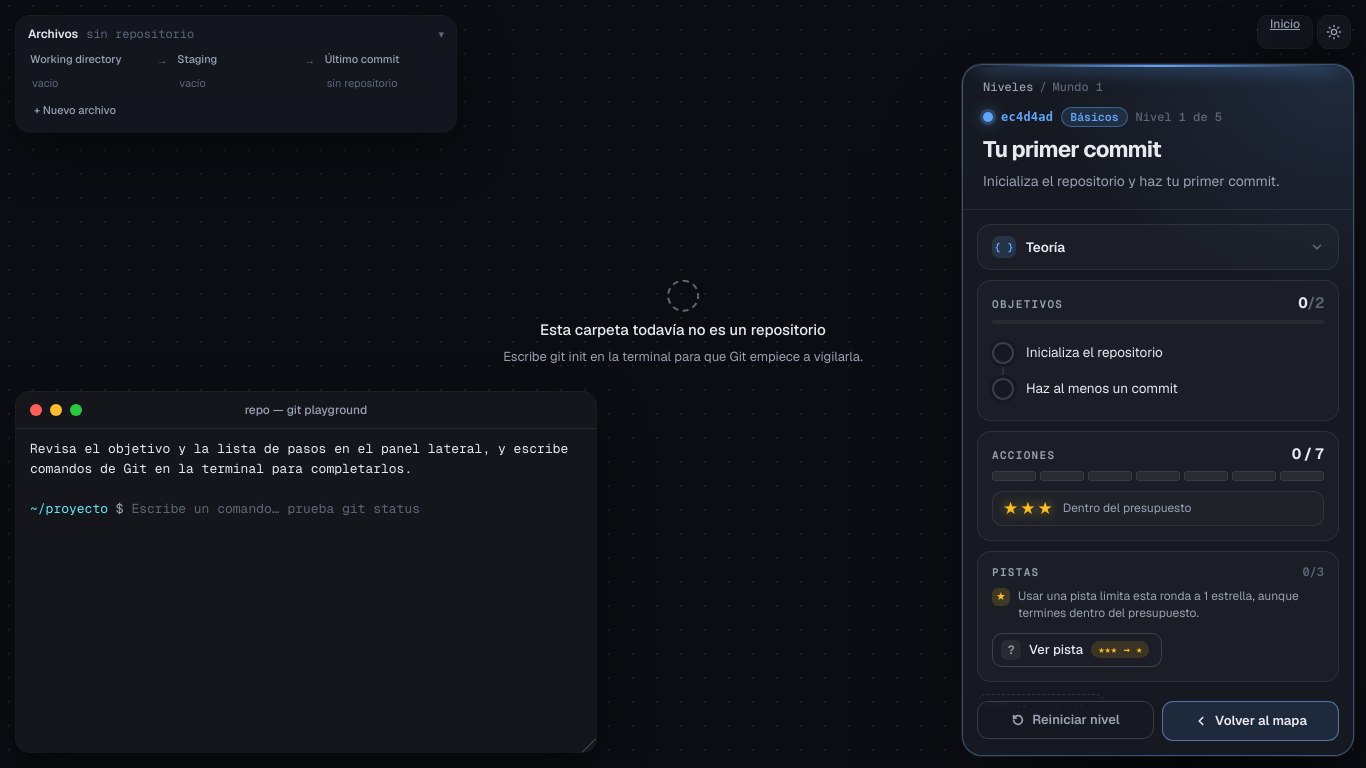
Scenario: LevelShell › revealing a hint caps stars at 1, even if the solve finishes within budget
Click the button "? Ver pista ★★★ → ★". click: (1077, 650)
box: [992,633,1162,667]
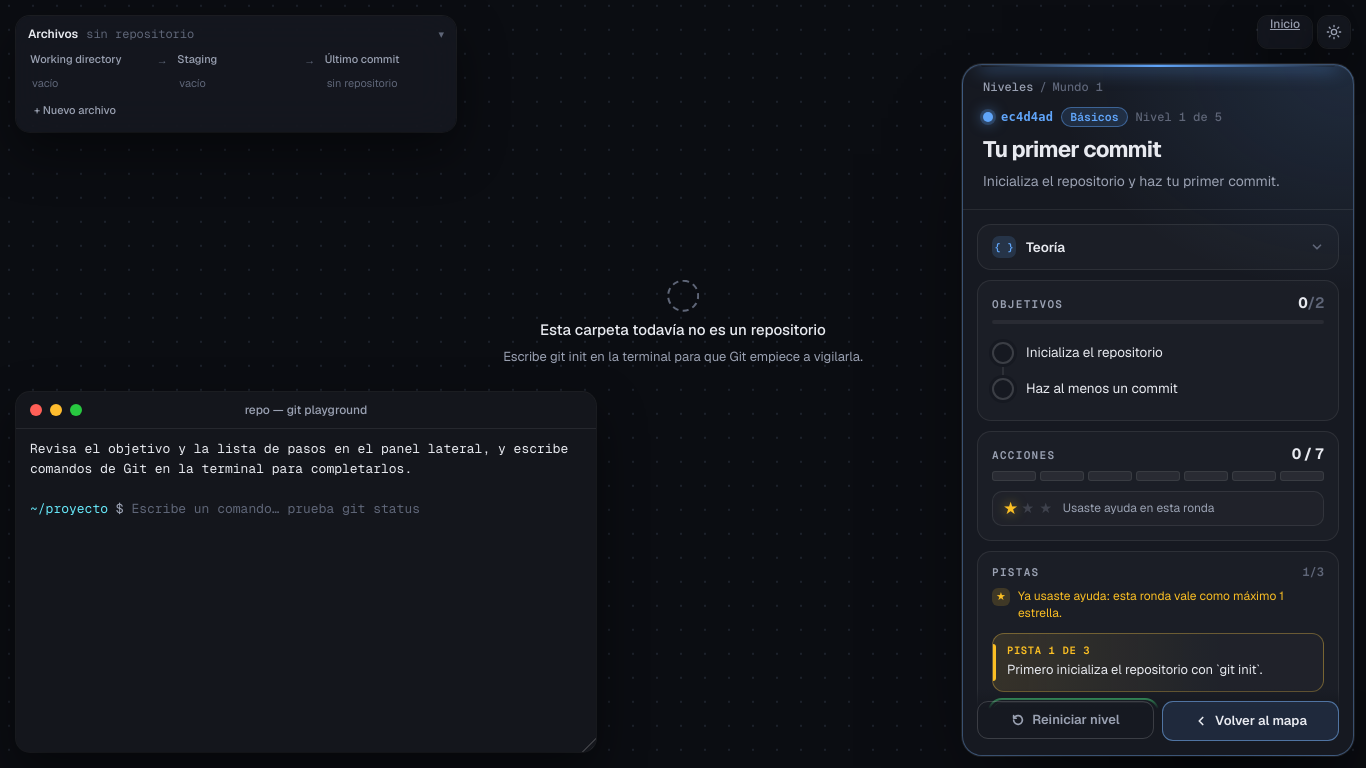
Type "git init" into the field labelled "comando". click: (357, 509)
box: [131,499,582,520]
Then press Enter
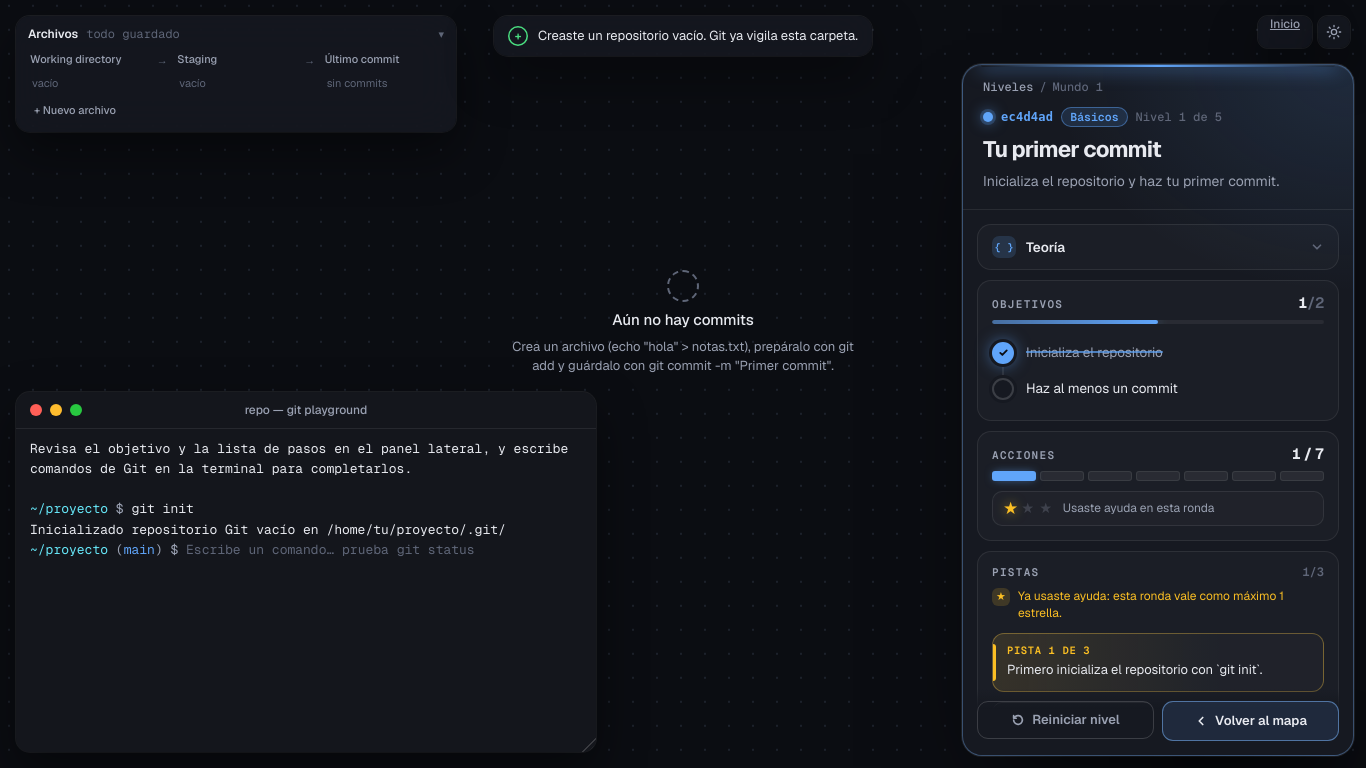
Type "touch README.md" into the field labelled "comando". click: (384, 550)
box: [186,540,582,560]
Then press Enter
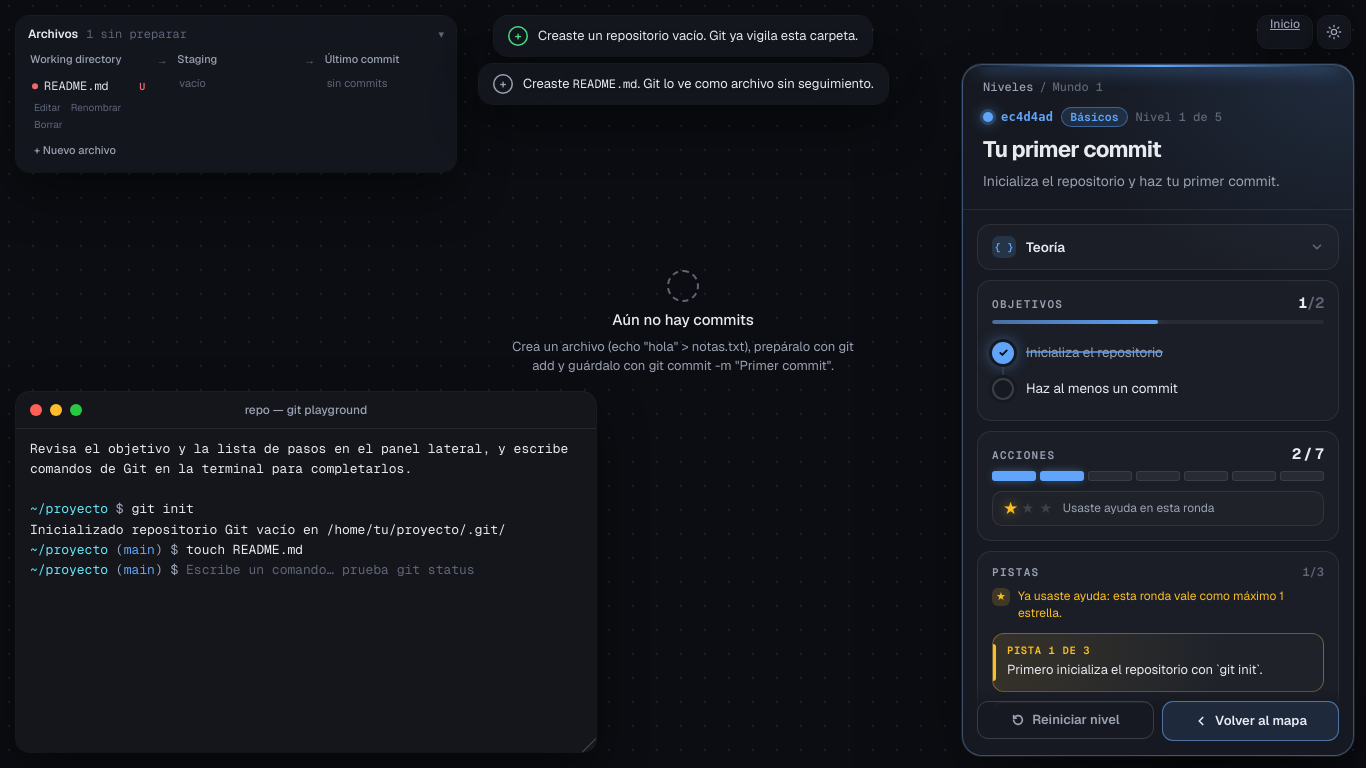
Type "echo \"Mi proyecto\" > README.md" into the field labelled "comando". click: (384, 570)
box: [186,560,582,580]
Then press Enter
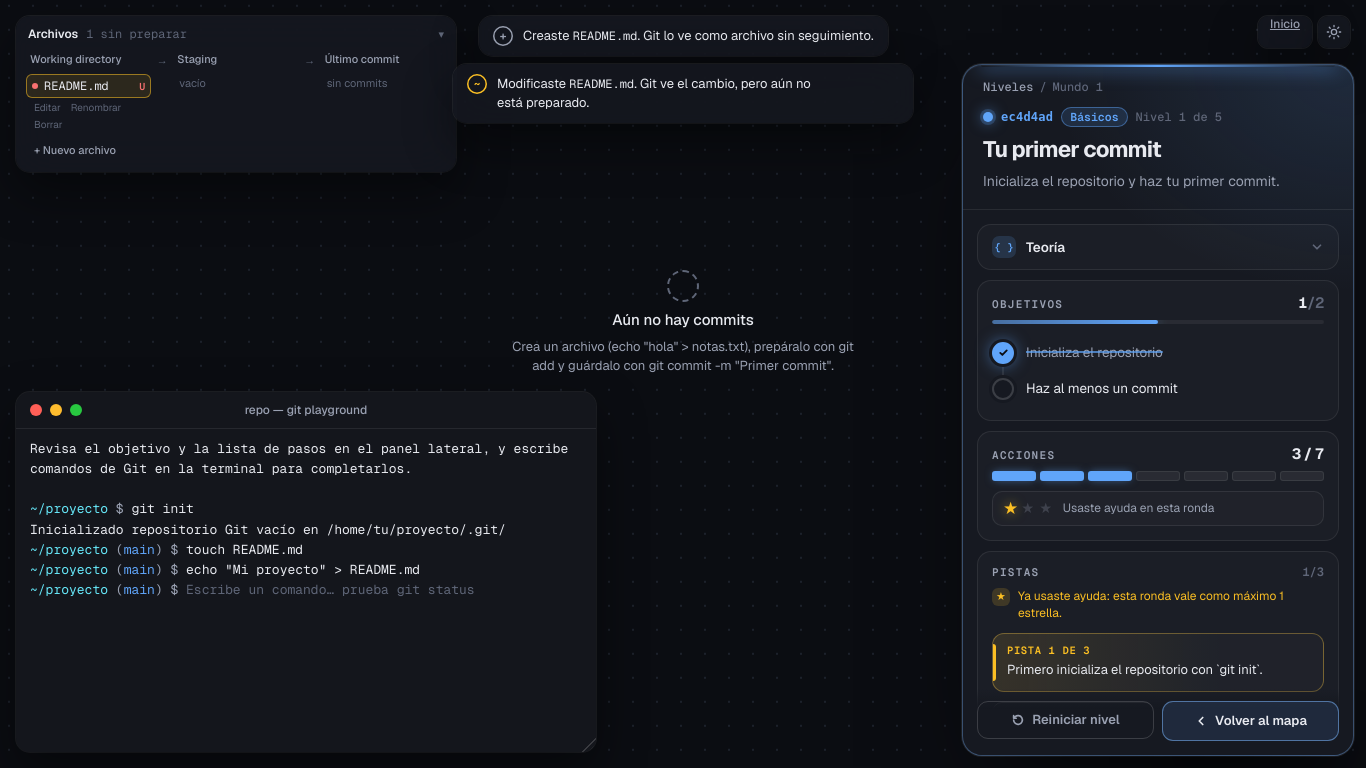
Type "git add README.md" into the field labelled "comando". click: (384, 590)
box: [186,580,582,600]
Then press Enter
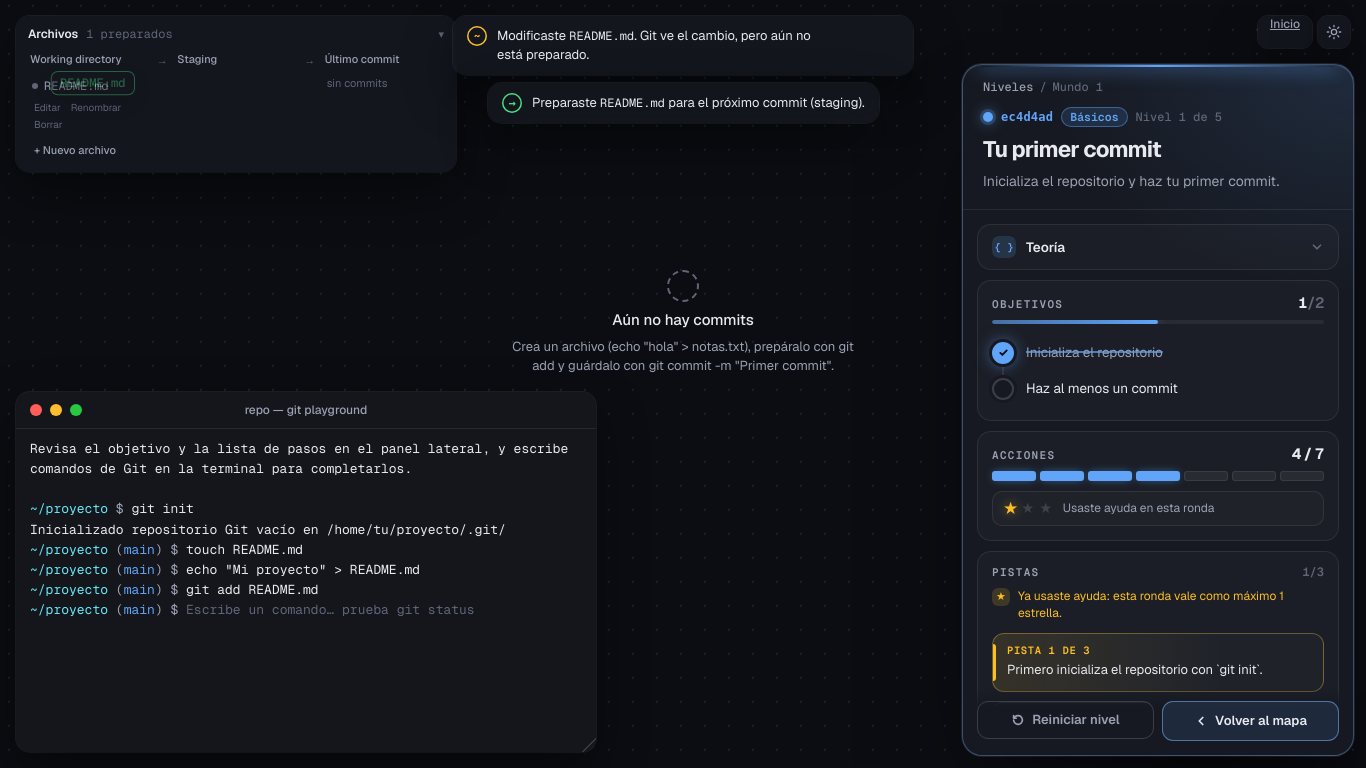
Type "git commit -m \"Primer commit\"" into the field labelled "comando". click: (384, 610)
box: [186,600,582,620]
Then press Enter
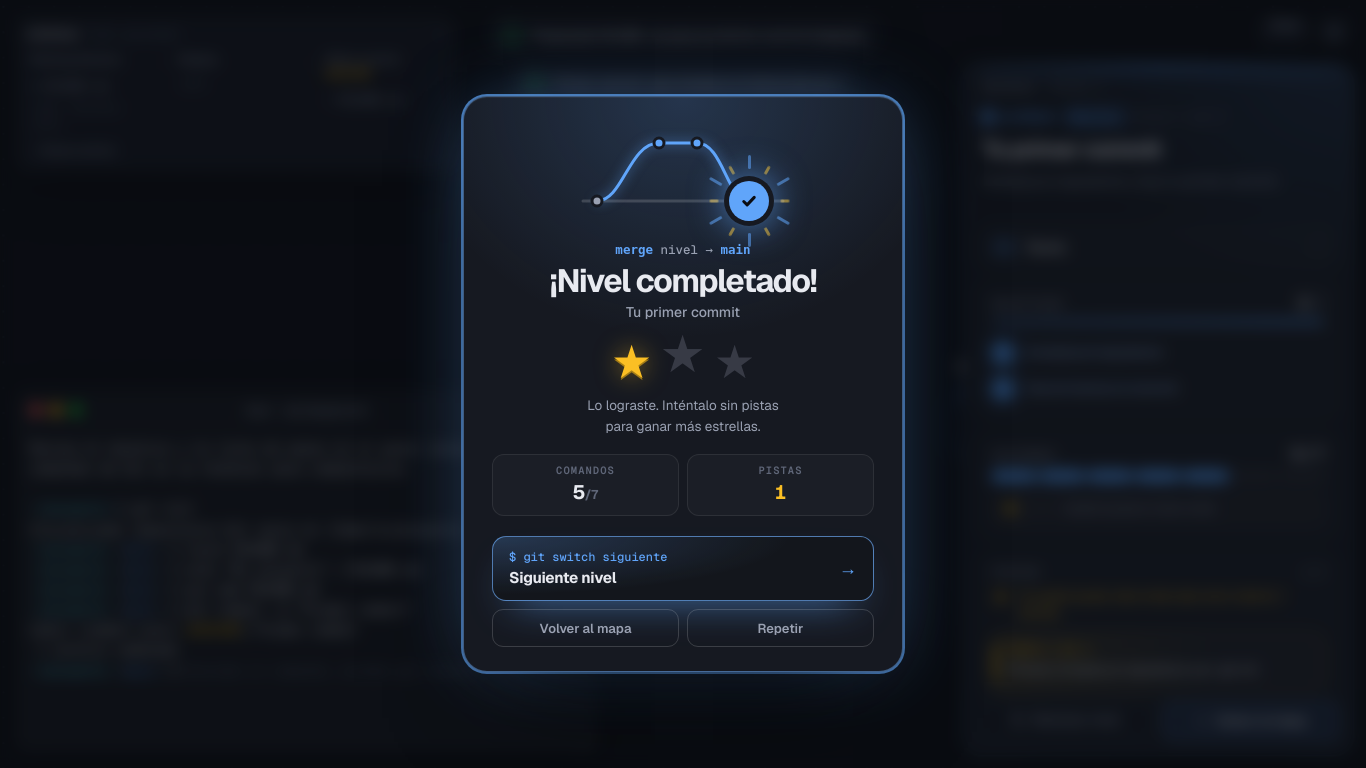
Now the picture named "1 de 3 estrellas" is shown, box [611,339,755,385]
